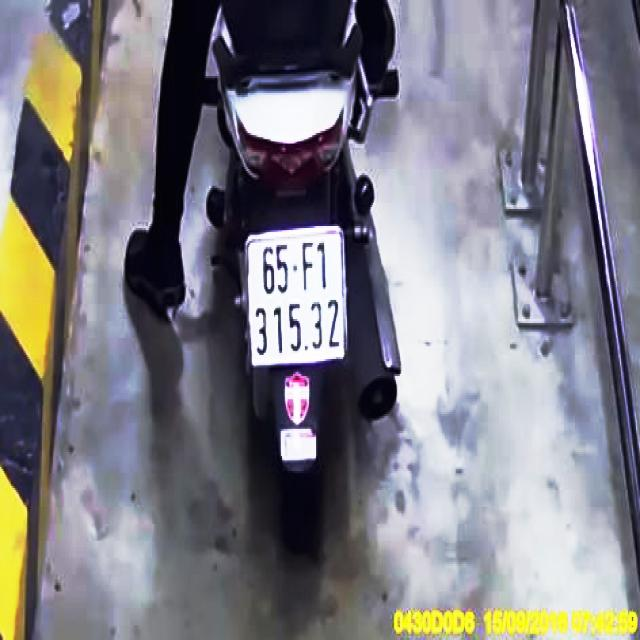license_plate: (250, 232, 347, 364)
